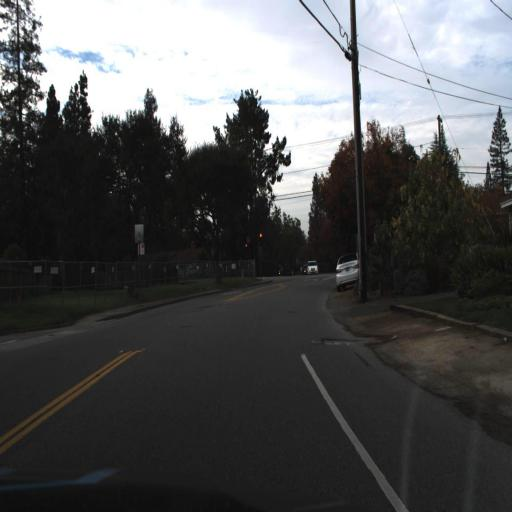car: (332, 246, 369, 296), (305, 254, 322, 282)
trafficLight-Red: (256, 227, 264, 247)
